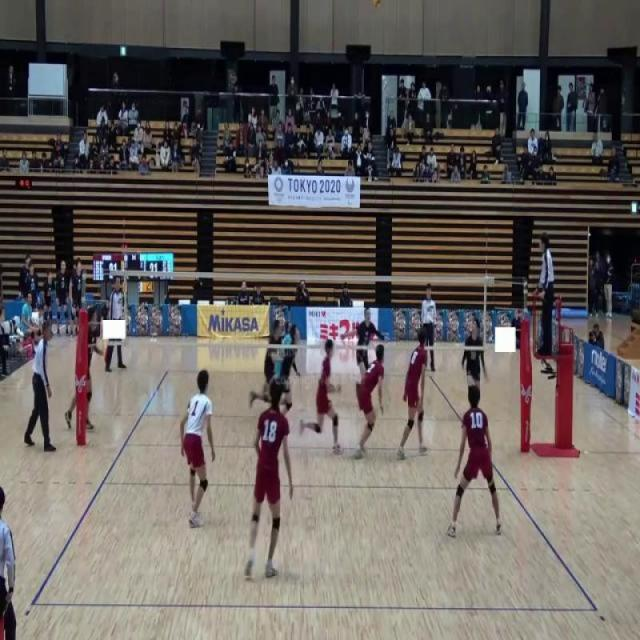volleyball: (371, 0, 382, 7)
